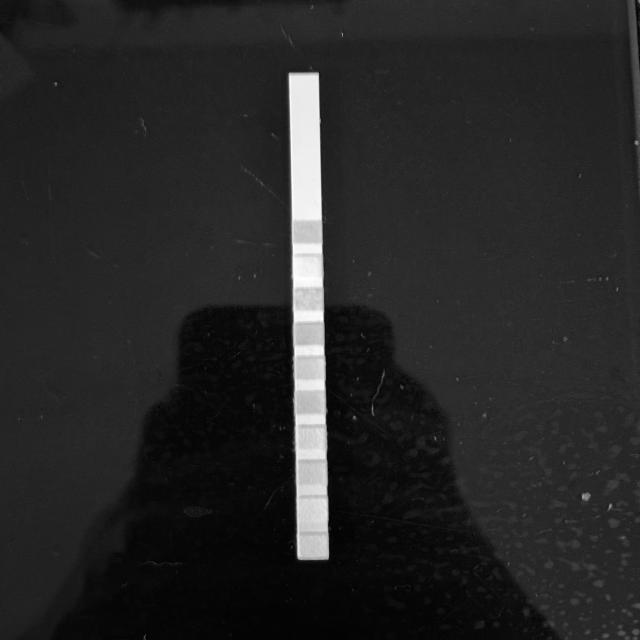Bilirubin: (294, 257, 322, 275)
Blood: (296, 358, 324, 378)
Glucose: (292, 222, 320, 243)
Ketone: (296, 290, 322, 310)
Leukocytes: (300, 536, 328, 557)
Nitrite: (299, 499, 327, 519)
Protein: (299, 428, 326, 449)
SpGravity: (295, 325, 324, 345)
Urobilinogen: (298, 462, 326, 483)
background: (0, 0, 640, 640)
pH: (297, 392, 325, 413)
strip: (290, 75, 330, 560)
